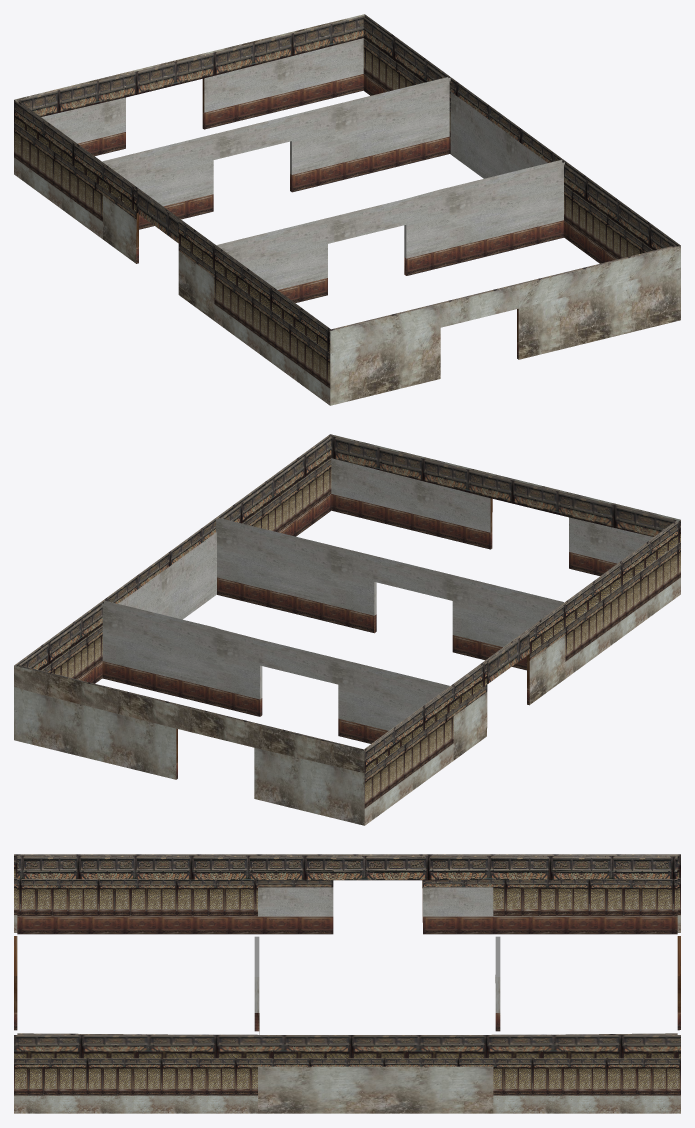
The picture shows the model from 3 angles, top to bottom: view 1: azimuth 30°, elevation 25°; view 2: azimuth 150°, elevation 25°; view 3: azimuth 270°, elevation 25°; orthographic projection. The views are drawn at different scales.
Parts seen in each view (by area): view 1: Object88; view 2: Object88; view 3: Object88.
Boxes of the visible parts, <box> form: Object88: <box>14,14,680,405</box>; Object88: <box>14,434,680,825</box>; Object88: <box>14,854,680,1113</box>.
Bounding box in the file's own units: 455 × 94.41 × 710.
